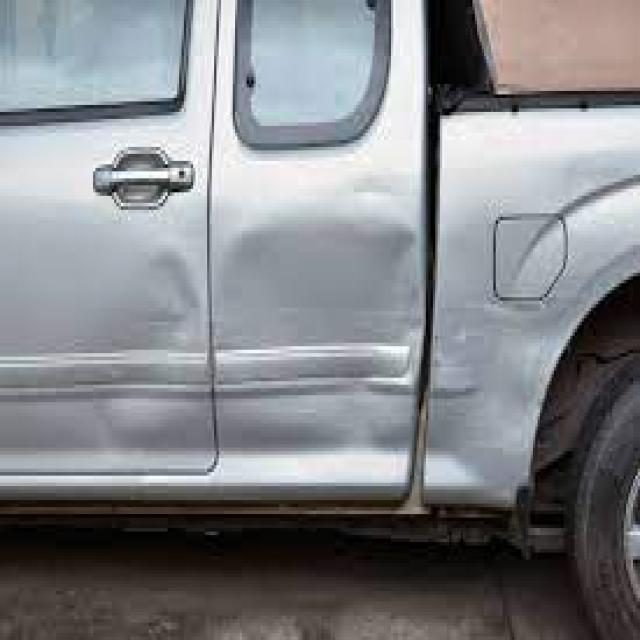Dent: (206, 237, 433, 441), (142, 260, 205, 354)
